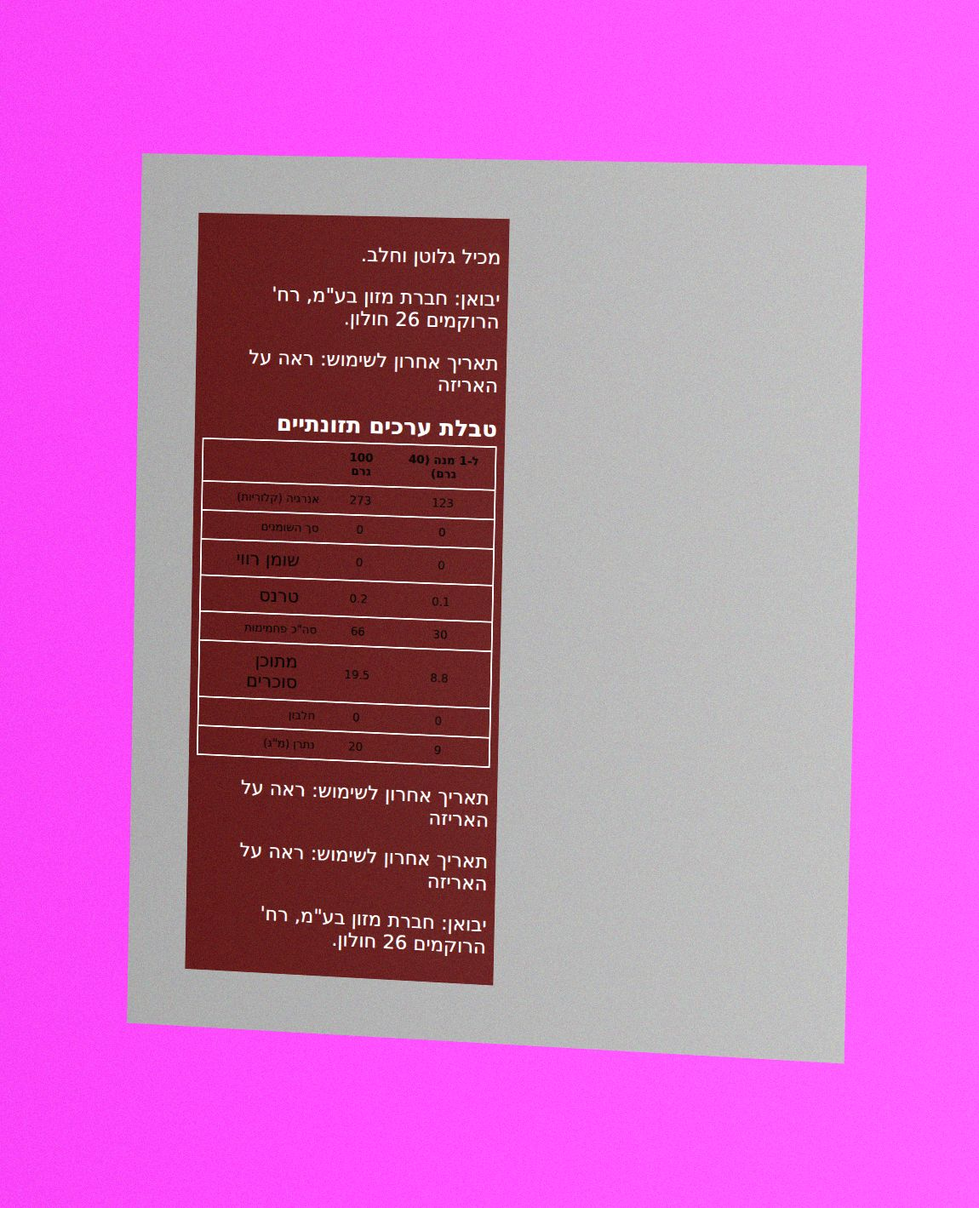carbs: (349, 623, 367, 640)
energy: (348, 492, 373, 509)
fat: (354, 521, 365, 538)
protein: (351, 709, 361, 726)
